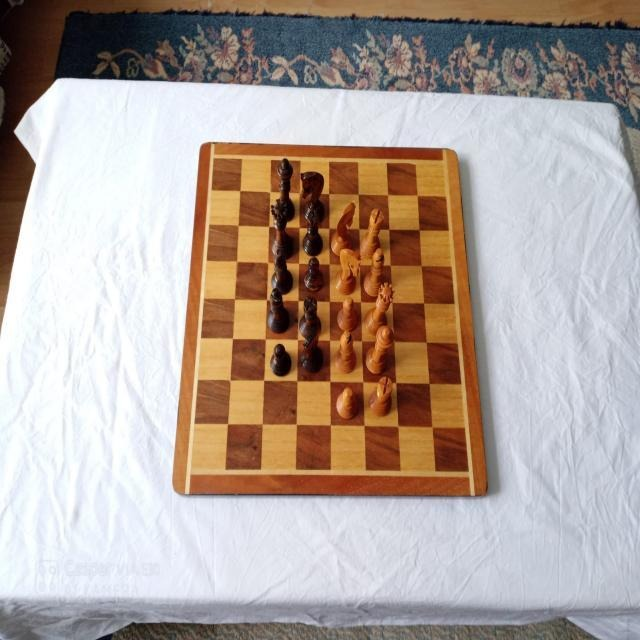black-bishop: (267, 287, 290, 333), (271, 249, 293, 295)
black-king: (277, 158, 295, 221)
black-knight: (299, 170, 325, 222), (300, 321, 323, 373)
black-pawn: (270, 343, 292, 376), (303, 256, 324, 290)
black-queen: (270, 198, 293, 258)
black-rook: (298, 296, 322, 338), (302, 209, 323, 256)
white-bishop: (363, 248, 385, 296), (335, 330, 358, 373)
white-king: (365, 325, 395, 375)
white-knight: (330, 200, 356, 256), (334, 248, 362, 295)
white-pawn: (336, 385, 358, 418), (337, 297, 357, 331)
white-queen: (364, 281, 395, 334)
white-rook: (360, 209, 384, 259), (367, 375, 392, 416)
